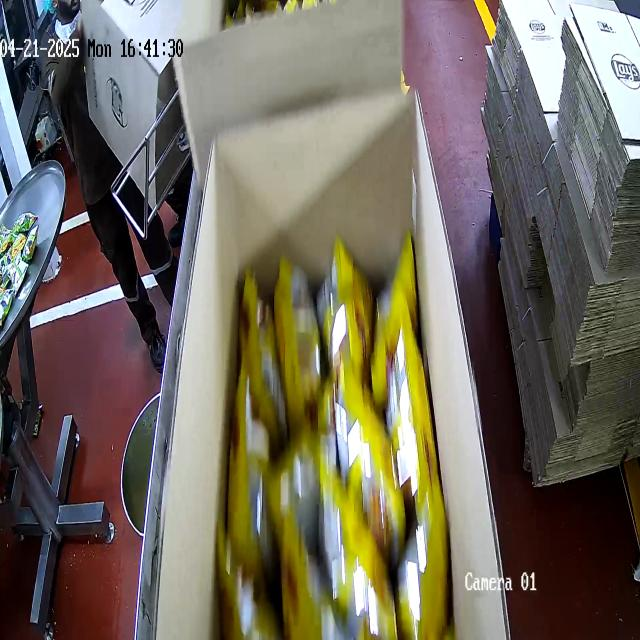SALTED: (226, 227, 441, 640)
